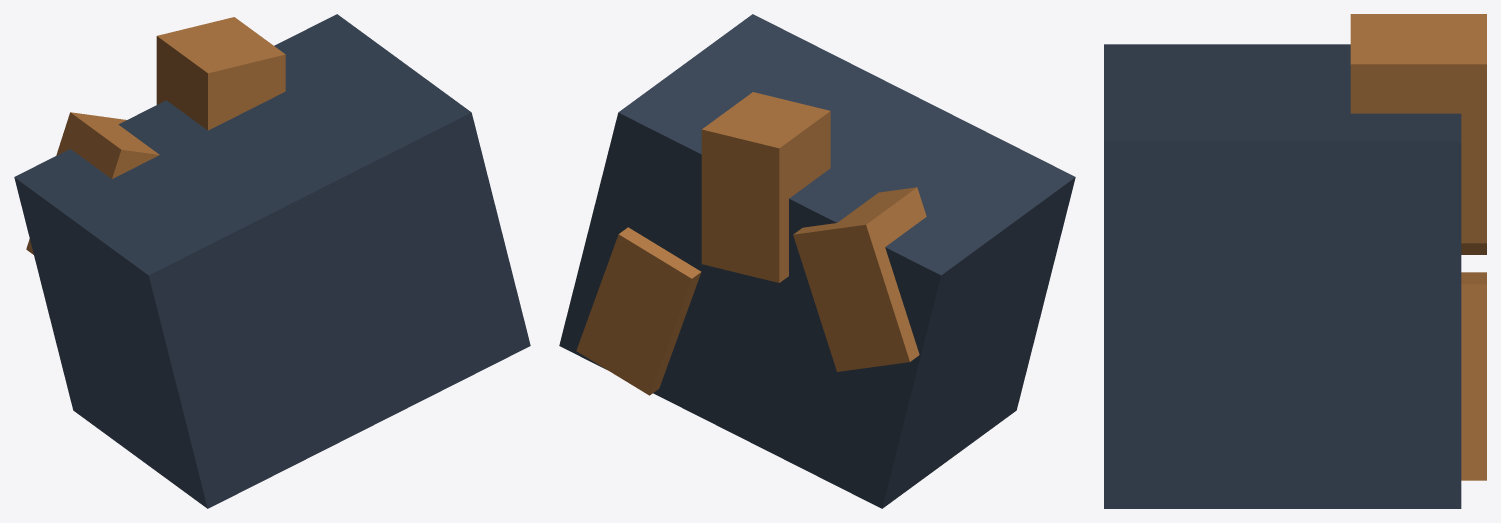
The model's file is iron_ore.glb.
3 renders of one model, left to right at view 1: azimuth 30°, elevation 25°; view 2: azimuth 150°, elevation 25°; view 3: azimuth 270°, elevation 25°, orthographic. The views are drawn at different scales.
Parts seen in each view (by area): view 1: iron_ore; view 2: iron_ore; view 3: iron_ore.
Part boxes in pixels (x1,y1,x2,y2): iron_ore: [14, 14, 530, 508]; iron_ore: [559, 14, 1075, 508]; iron_ore: [1104, 14, 1486, 508].
Bounding box in the file's own units: 1.72 × 1.49 × 1.12.
